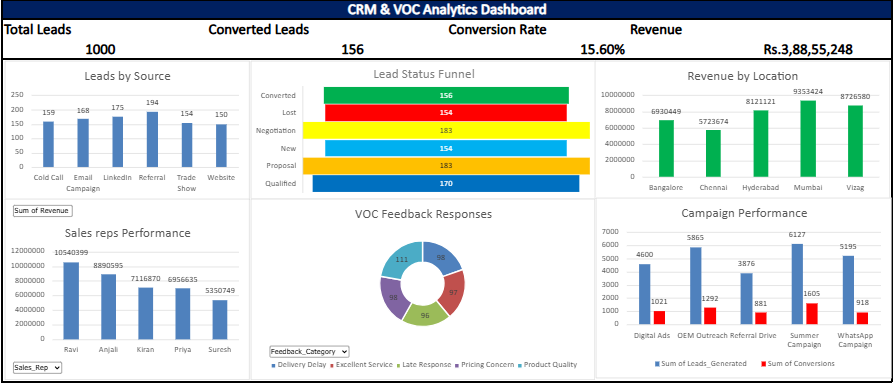

The dashboard page shown, as its layout file describes it:
{"tool":"powerbi","page":{"name":"Page 1","canvas":[1280,720],"ordinal":0},"visuals":[{"type":"cardVisual","fields":{"Data":["CRM_Leads.Total Leads"]},"box":[10,58.6,217.1,107.1],"z":0},{"type":"cardVisual","fields":{"Data":["CRM_Leads.Converted Leads"]},"box":[227.1,58.6,232.9,107.1],"z":1000},{"type":"cardVisual","fields":{"Data":["CRM_Leads.Conversion Rate"]},"box":[517.1,58.6,244.3,107.1],"z":2000},{"type":"cardVisual","fields":{"Data":["CRM_Leads.Total Revenue"]},"box":[811.4,58.6,234.3,107.1],"z":3000},{"type":"cardVisual","fields":{"Data":["CRM_Leads.Avg Response Time"]},"box":[1058.6,58.6,221.4,107.1],"z":4000},{"type":"clusteredColumnChart","title":"Lead Acquisition Sources","fields":{"Category":["CRM_Leads.Lead_Source"],"Y":["CRM_Leads.Total Leads"]},"box":[0,154.6,400.1,230.7],"z":5000},{"type":"funnel","fields":{"Category":["CRM_Leads.Lead_Status_Sorted"],"Y":["CRM_Leads.Total Leads"]},"box":[0,397.4,414.7,322.6],"z":6000},{"type":"columnChart","fields":{"Category":["CRM_Leads.Region"],"Y":["Sum(CRM_Leads.Revenue)"]},"box":[843.1,154.6,436.9,230.7],"z":7000},{"type":"donutChart","title":"VOC Feedback Distribution","fields":{"Category":["VOC_Feedback.Feedback_Category"],"Y":["CountNonNull(VOC_Feedback.Feedback_ID)"]},"box":[408.7,154.6,434.4,230.7],"z":8000},{"type":"clusteredColumnChart","title":"Campaign Performance","fields":{"Category":["Marketing_Campaigns.Campaign_Name"],"Y":["Sum(Marketing_Campaigns.Leads_Generated)","Sum(Marketing_Campaigns.Conversions)"]},"box":[414.8,385.3,397.6,198.8],"z":9000},{"type":"slicer","fields":{"Values":["CRM_Leads.Region"]},"box":[844,385.4,158.3,178.7],"z":10000},{"type":"slicer","fields":{"Values":["CRM_Leads.Lead_Source"]},"box":[1134.7,385.4,145.3,207.8],"z":11000},{"type":"slicer","fields":{"Values":["CRM_Leads.Sales_Rep"]},"box":[1002.3,385.4,132.4,178.7],"z":12000},{"type":"slicer","fields":{"Values":["Marketing_Campaigns.Month"]},"box":[904.3,577,230.4,98],"z":13000},{"type":"textbox","box":[159.8,0,944.6,59],"z":14000},{"type":"image","box":[0,0,160,58.9],"z":15000},{"type":"image","box":[1104.5,0,174.2,59],"z":16000},{"type":"textbox","box":[414.3,592.9,402.9,127.1],"z":16001},{"type":"textbox","box":[880.6,675,383.2,34.4],"z":16002}]}

Visuals, with their boxes on the page's 1280x720 design canvas (x1, y1, x2, y2). These are canvas units, not pixel positions in the 895x384 screenshot, which may show the page scaled, cropped or inside an application window:
cardVisual - CRM_Leads.Total Leads: (x1=10, y1=59, x2=227, y2=166)
cardVisual - CRM_Leads.Converted Leads: (x1=227, y1=59, x2=460, y2=166)
cardVisual - CRM_Leads.Conversion Rate: (x1=517, y1=59, x2=761, y2=166)
cardVisual - CRM_Leads.Total Revenue: (x1=811, y1=59, x2=1046, y2=166)
cardVisual - CRM_Leads.Avg Response Time: (x1=1059, y1=59, x2=1280, y2=166)
"Lead Acquisition Sources" clusteredColumnChart: (x1=0, y1=155, x2=400, y2=385)
funnel - CRM_Leads.Lead_Status_Sorted x CRM_Leads.Total Leads: (x1=0, y1=397, x2=415, y2=720)
columnChart - CRM_Leads.Region x Sum(CRM_Leads.Revenue): (x1=843, y1=155, x2=1280, y2=385)
"VOC Feedback Distribution" donutChart: (x1=409, y1=155, x2=843, y2=385)
"Campaign Performance" clusteredColumnChart: (x1=415, y1=385, x2=812, y2=584)
slicer - CRM_Leads.Region: (x1=844, y1=385, x2=1002, y2=564)
slicer - CRM_Leads.Lead_Source: (x1=1135, y1=385, x2=1280, y2=593)
slicer - CRM_Leads.Sales_Rep: (x1=1002, y1=385, x2=1135, y2=564)
slicer - Marketing_Campaigns.Month: (x1=904, y1=577, x2=1135, y2=675)
textbox: (x1=160, y1=0, x2=1104, y2=59)
image: (x1=0, y1=0, x2=160, y2=59)
image: (x1=1104, y1=0, x2=1279, y2=59)
textbox: (x1=414, y1=593, x2=817, y2=720)
textbox: (x1=881, y1=675, x2=1264, y2=709)
